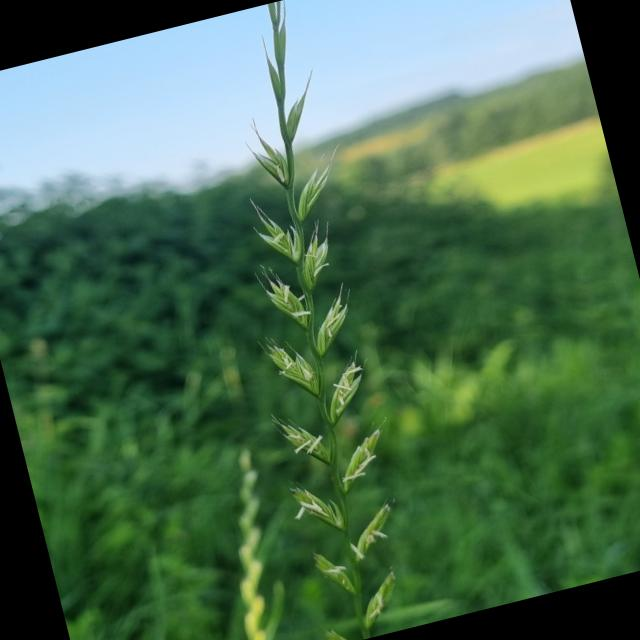Lolium: (167, 0, 455, 640)
